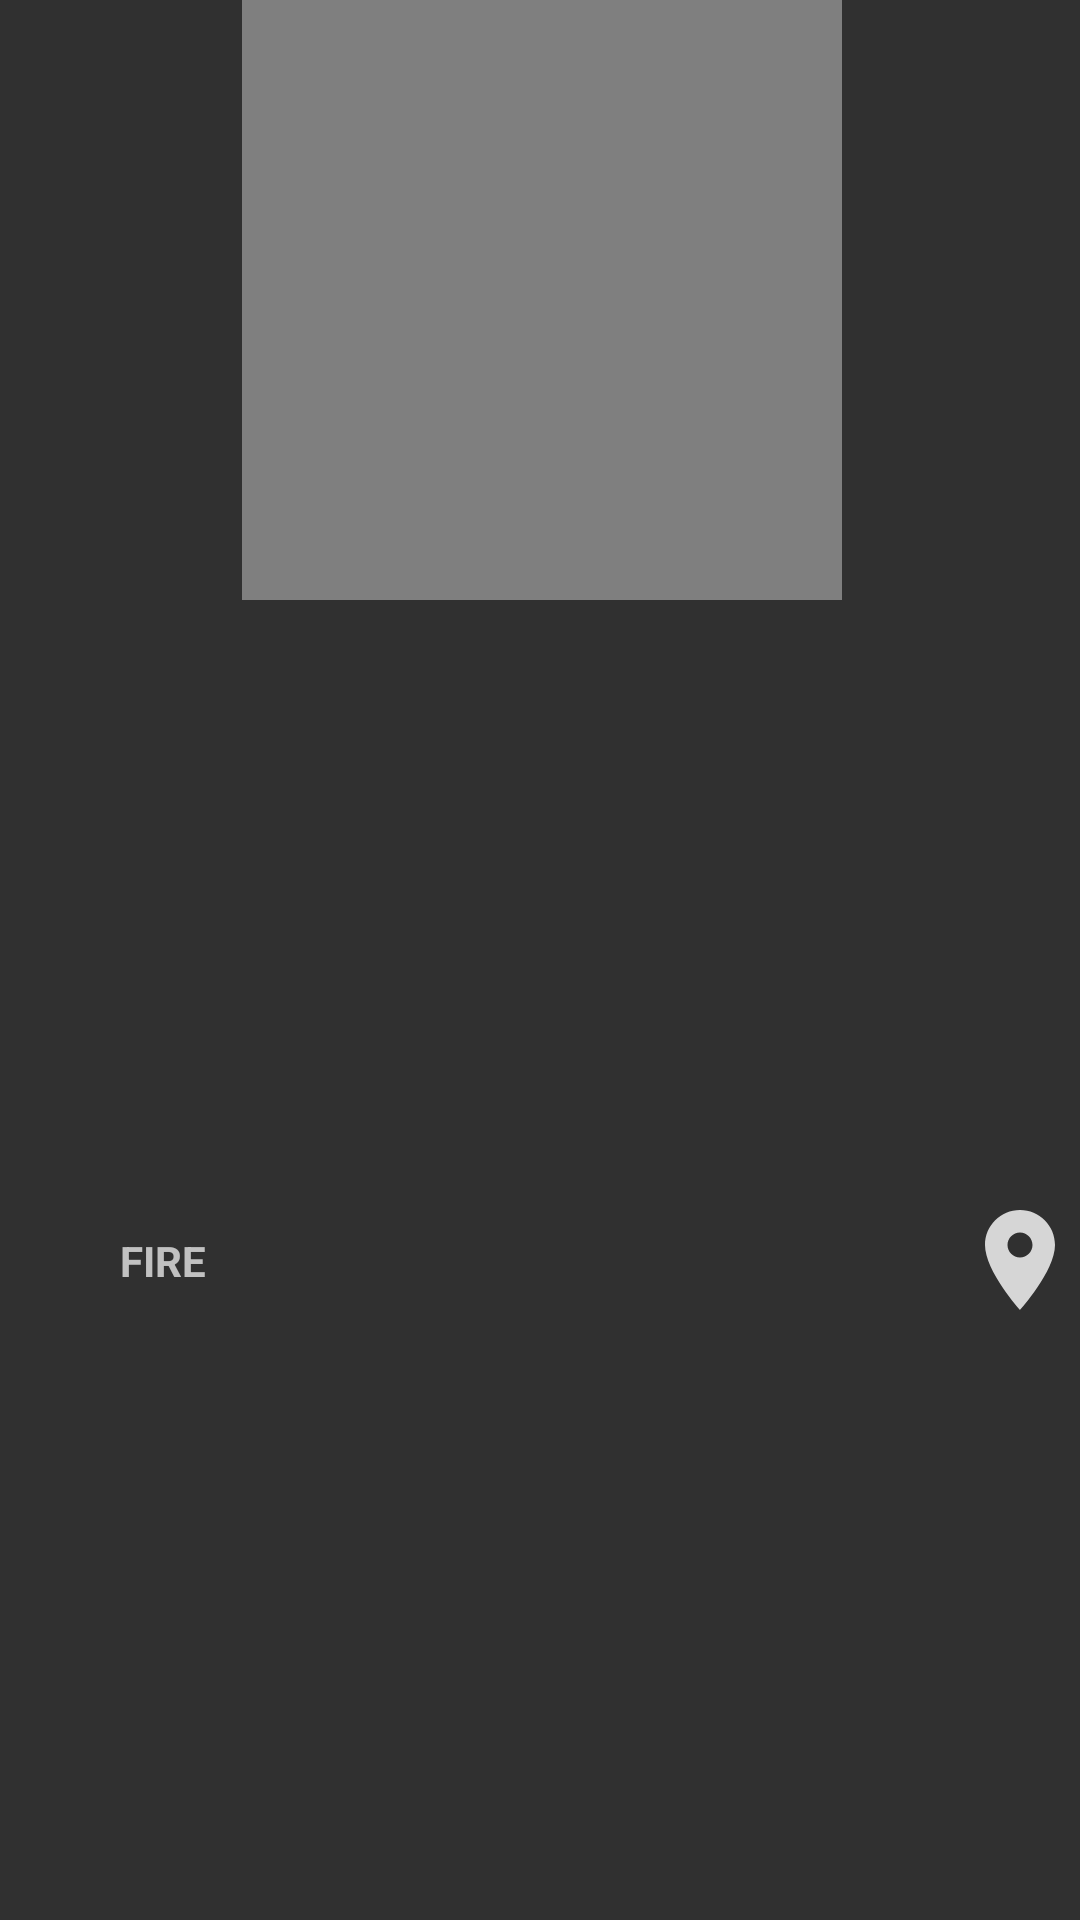

Where icons sit on this 1080px x 1920px app screen, as (x1, y1, x2, y2):
maps: (985, 1210, 1055, 1310)
